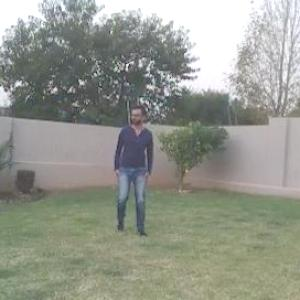follow: (109, 97, 159, 241)
